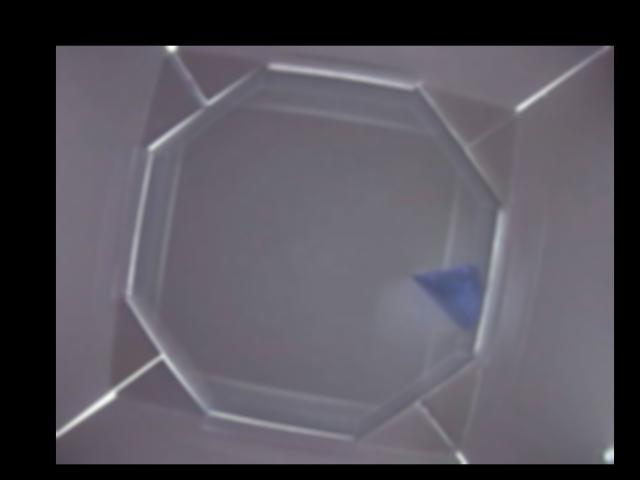Mooli: (415, 261, 478, 331)
